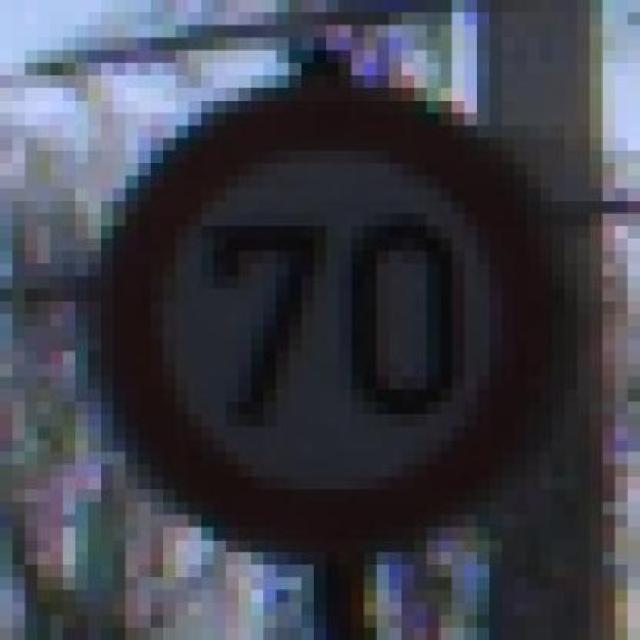forb_speed_over_70: (107, 90, 559, 539)
